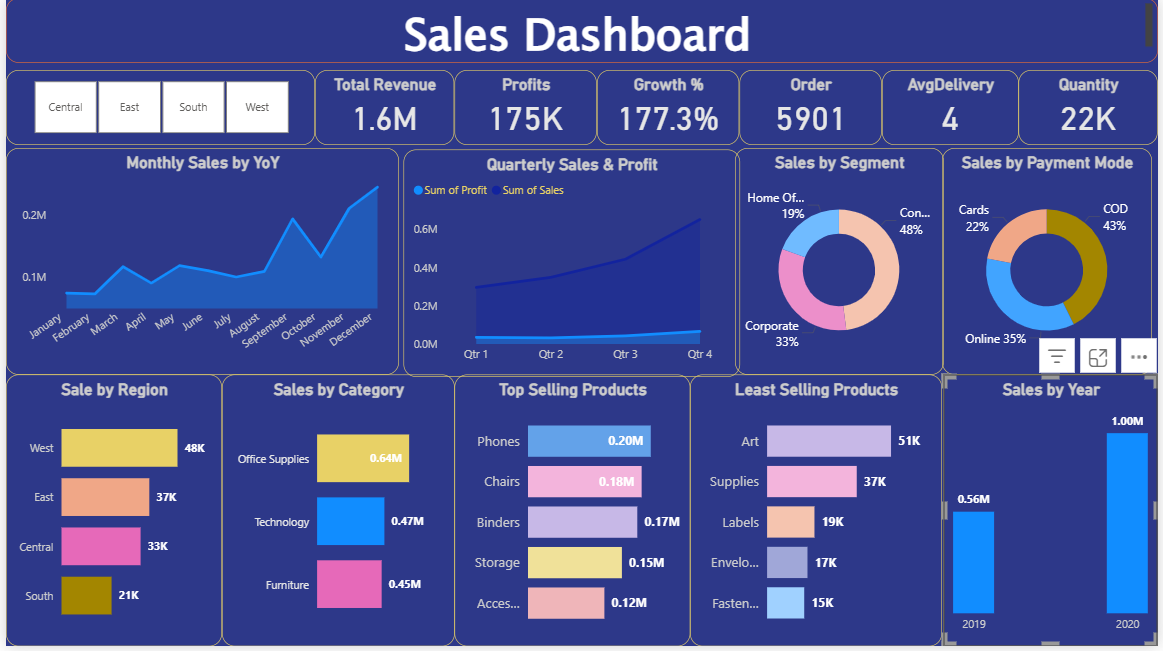

The page's visual inventory and layout, read from the dashboard file:
{"tool":"powerbi","page":{"name":"Sales Dashboard","canvas":[1280,720],"ordinal":0},"visuals":[{"type":"clusteredBarChart","title":"Sales by Category","fields":{"Category":["SuperStore Sales DataSet xlsx - Sheet1.Category"],"Y":["Sum(SuperStore Sales DataSet xlsx - Sheet1.Sales)"]},"box":[240,418.3,258.3,301.7],"z":0},{"type":"clusteredBarChart","title":"Top Selling Products","fields":{"Category":["SuperStore Sales DataSet xlsx - Sheet1.Sub-Category"],"Y":["Sum(SuperStore Sales DataSet xlsx - Sheet1.Sales)"]},"box":[498.5,418.6,262,302],"z":1000},{"type":"stackedAreaChart","title":"Quarterly Sales & Profit","fields":{"Y":["Sum(SuperStore Sales DataSet xlsx - Sheet1.Profit)","Sum(SuperStore Sales DataSet xlsx - Sheet1.Sales)"],"Category":["Calendar.Date.Variation.Date Hierarchy.Quarter"]},"box":[441,167.8,373.9,252.4],"z":2000},{"type":"stackedAreaChart","title":"Monthly Sales by YoY","fields":{"Y":["Sum(SuperStore Sales DataSet xlsx - Sheet1.Sales)"],"Category":["Calendar.Date.Variation.Date Hierarchy.Month"]},"box":[0,166.7,436.7,251.7],"z":3000},{"type":"donutChart","title":"Sales by Segment","fields":{"Category":["SuperStore Sales DataSet xlsx - Sheet1.Segment"],"Y":["Sum(SuperStore Sales DataSet xlsx - Sheet1.Sales)"]},"box":[810,166.7,231.7,251.7],"z":4000},{"type":"donutChart","title":"Sales by Payment Mode","fields":{"Category":["SuperStore Sales DataSet xlsx - Sheet1.Payment Mode"],"Y":["Sum(SuperStore Sales DataSet xlsx - Sheet1.Sales)"]},"box":[1040,166.7,233.3,251.7],"z":5000},{"type":"textbox","box":[0,0,1280,71.7],"z":6000},{"type":"card","title":"Growth %","fields":{"Values":["SuperStore Sales DataSet xlsx - Sheet1.Growth %"]},"box":[656.6,79.9,158.2,83.1],"z":7000},{"type":"card","title":"Quantity","fields":{"Values":["Sum(SuperStore Sales DataSet xlsx - Sheet1.Quantity)"]},"box":[1124.8,79.9,155,83.1],"z":8000},{"type":"card","title":"Profits","fields":{"Values":["Sum(SuperStore Sales DataSet xlsx - Sheet1.Profit)"]},"box":[498.5,79.9,158.2,83.1],"z":9000},{"type":"card","title":"AvgDelivery","fields":{"Values":["Avg(SuperStore Sales DataSet xlsx - Sheet1.AvgDelivery)"]},"box":[973,79.9,151.8,83.1],"z":10000},{"type":"clusteredBarChart","title":"Least Selling Products","fields":{"Category":["SuperStore Sales DataSet xlsx - Sheet1.Sub-Category"],"Y":["Sum(SuperStore Sales DataSet xlsx - Sheet1.Sales)"]},"box":[760,418.3,280,301.7],"z":11000},{"type":"slicer","fields":{"Values":["SuperStore Sales DataSet xlsx - Sheet1.Region"]},"box":[0,80,343.3,83.3],"z":12000},{"type":"card","title":"Order","fields":{"Values":["CountNonNull(SuperStore Sales DataSet xlsx - Sheet1.Order Date)"]},"box":[814.8,79.9,158.2,83.1],"z":13000},{"type":"card","title":"Total Revenue","fields":{"Values":["Sum(SuperStore Sales DataSet xlsx - Sheet1.Sales)"]},"box":[343.5,79.9,155,83.1],"z":14000},{"type":"clusteredBarChart","title":"Sale by Region","fields":{"Y":["Sum(SuperStore Sales DataSet xlsx - Sheet1.Sales)"],"Category":["SuperStore Sales DataSet xlsx - Sheet1.Region"]},"box":[0,418.3,240,301.7],"z":15000},{"type":"columnChart","title":"Sales by Year","fields":{"Category":["Calendar.Date.Variation.Date Hierarchy.Year"],"Y":["Sum(SuperStore Sales DataSet xlsx - Sheet1.Sales)"]},"box":[1041.7,418.3,238.3,301.7],"z":16000}]}

Visuals, with their boxes in screenshot pixels (x1, y1, x2, y2), scaled from the page's 1280x720 canvas onto the 1163x651 screenshot:
"Sales by Category" clusteredBarChart: locate(218, 378, 453, 650)
"Top Selling Products" clusteredBarChart: locate(453, 378, 691, 650)
"Quarterly Sales & Profit" stackedAreaChart: locate(401, 152, 740, 380)
"Monthly Sales by YoY" stackedAreaChart: locate(0, 151, 397, 378)
"Sales by Segment" donutChart: locate(736, 151, 946, 378)
"Sales by Payment Mode" donutChart: locate(945, 151, 1157, 378)
textbox: locate(0, 0, 1162, 65)
"Growth %" card: locate(597, 72, 740, 147)
"Quantity" card: locate(1022, 72, 1162, 147)
"Profits" card: locate(453, 72, 597, 147)
"AvgDelivery" card: locate(884, 72, 1022, 147)
"Least Selling Products" clusteredBarChart: locate(691, 378, 945, 650)
slicer - SuperStore Sales DataSet xlsx - Sheet1.Region: locate(0, 72, 312, 148)
"Order" card: locate(740, 72, 884, 147)
"Total Revenue" card: locate(312, 72, 453, 147)
"Sale by Region" clusteredBarChart: locate(0, 378, 218, 650)
"Sales by Year" columnChart: locate(946, 378, 1162, 650)
